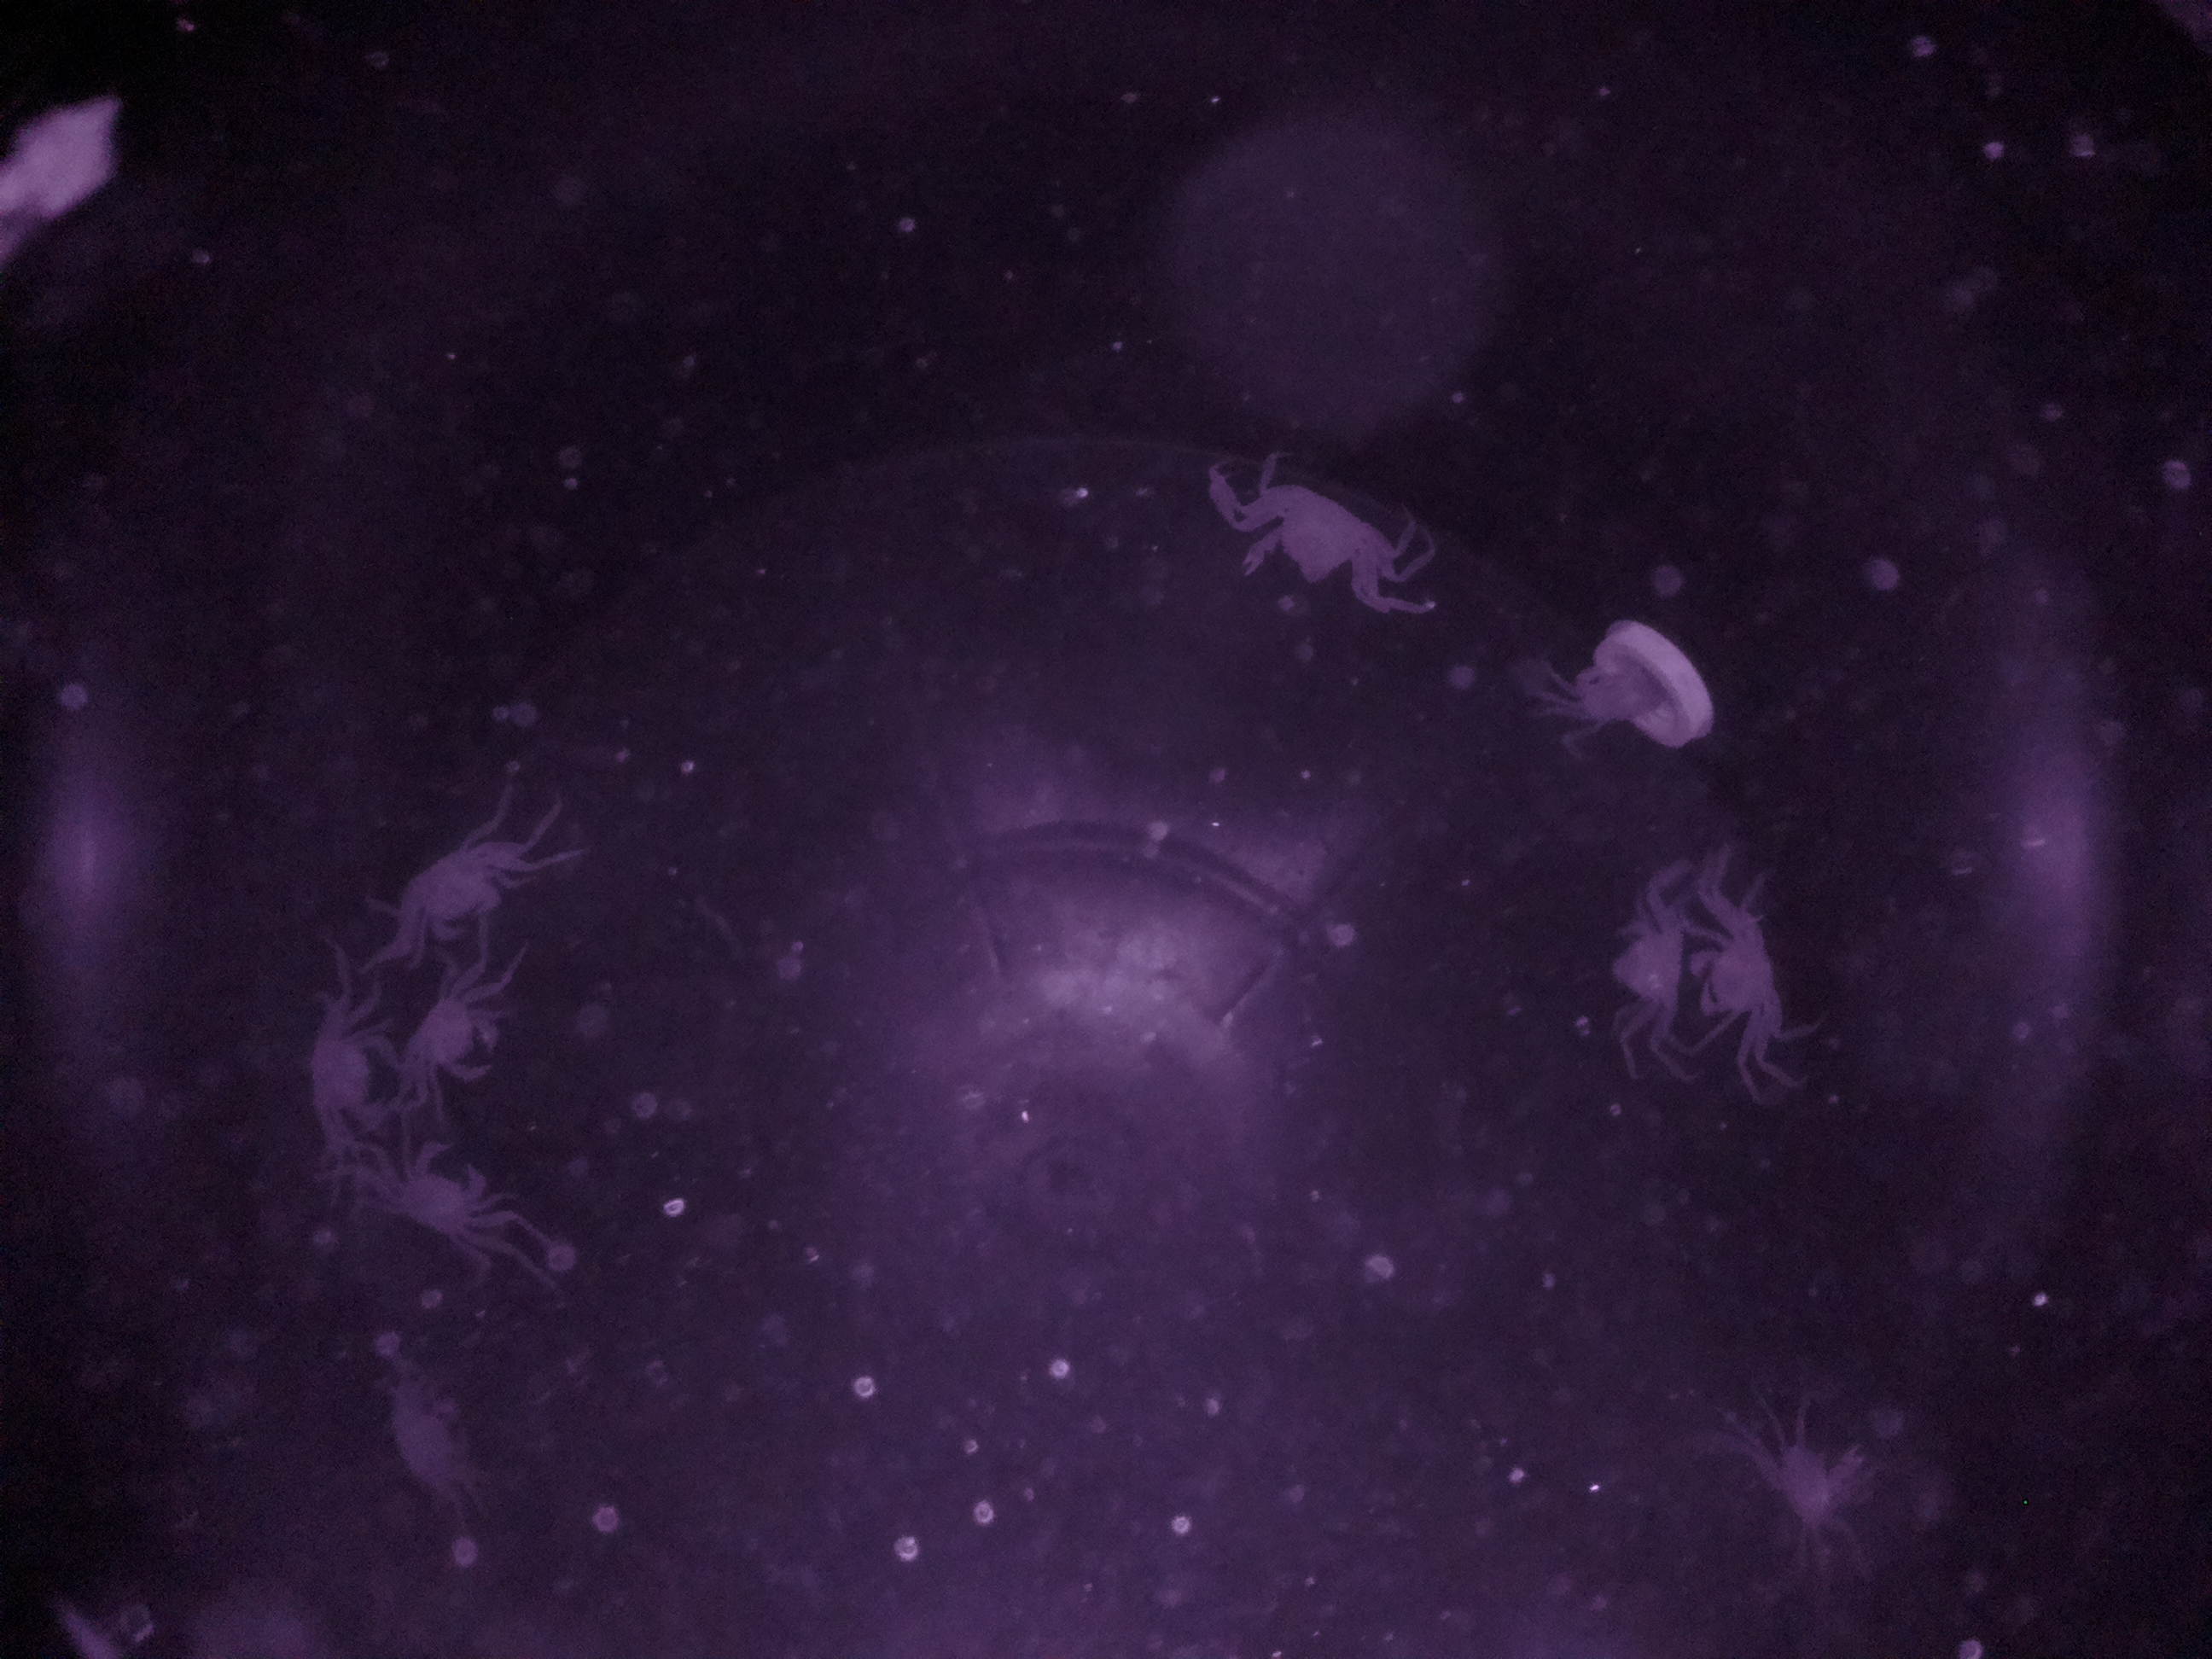Crab: (357, 1112, 577, 1291), (1202, 446, 1423, 622), (1681, 871, 1834, 1108), (368, 788, 529, 955), (388, 964, 535, 1115), (1580, 873, 1684, 1084)
